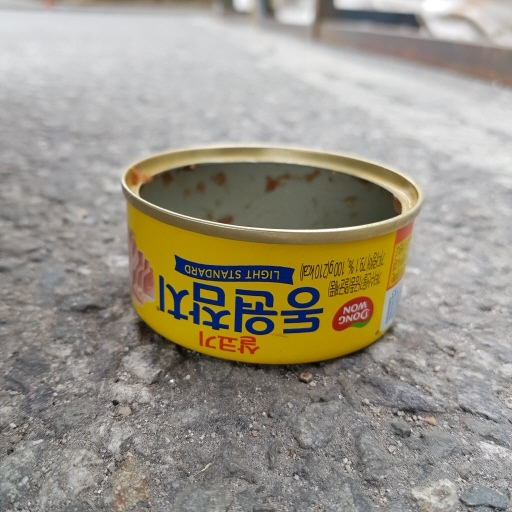Metal_1: (119, 141, 422, 366)
